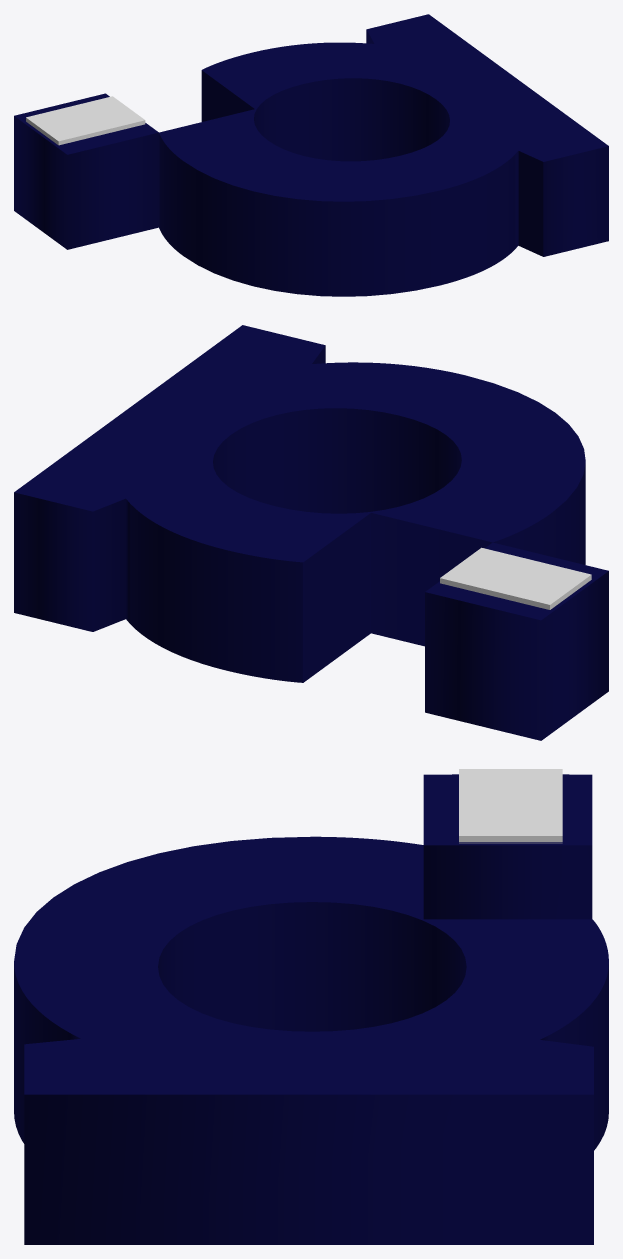
File: newaplane.glb
3 renders of one model, top to bottom at view 1: azimuth 30°, elevation 25°; view 2: azimuth 150°, elevation 25°; view 3: azimuth 270°, elevation 25°, orthographic. The views are drawn at different scales.
Visible parts, largest first — view 1: Curve.002, Curve.003, Plane; view 2: Curve.002, Curve.003, Plane; view 3: Curve.002, Curve.003, Plane.
Boxes of the visible parts, bbox=[...] form: Curve.002: bbox=[159, 14, 608, 296]; Curve.003: bbox=[14, 93, 158, 249]; Plane: bbox=[26, 96, 145, 145]; Curve.002: bbox=[14, 325, 585, 682]; Curve.003: bbox=[425, 542, 608, 740]; Plane: bbox=[440, 547, 591, 609]; Curve.002: bbox=[14, 836, 608, 1244]; Curve.003: bbox=[423, 774, 592, 919]; Plane: bbox=[459, 769, 562, 843].
Size of the model in its own units: 12.92 by 2.97 by 10.15.
